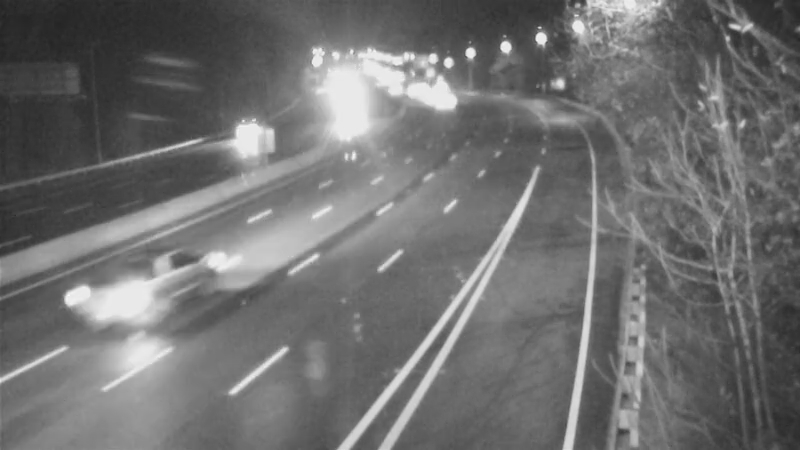vehicle: (81, 256, 161, 336), (419, 74, 469, 124), (225, 100, 275, 150), (320, 98, 370, 148)
